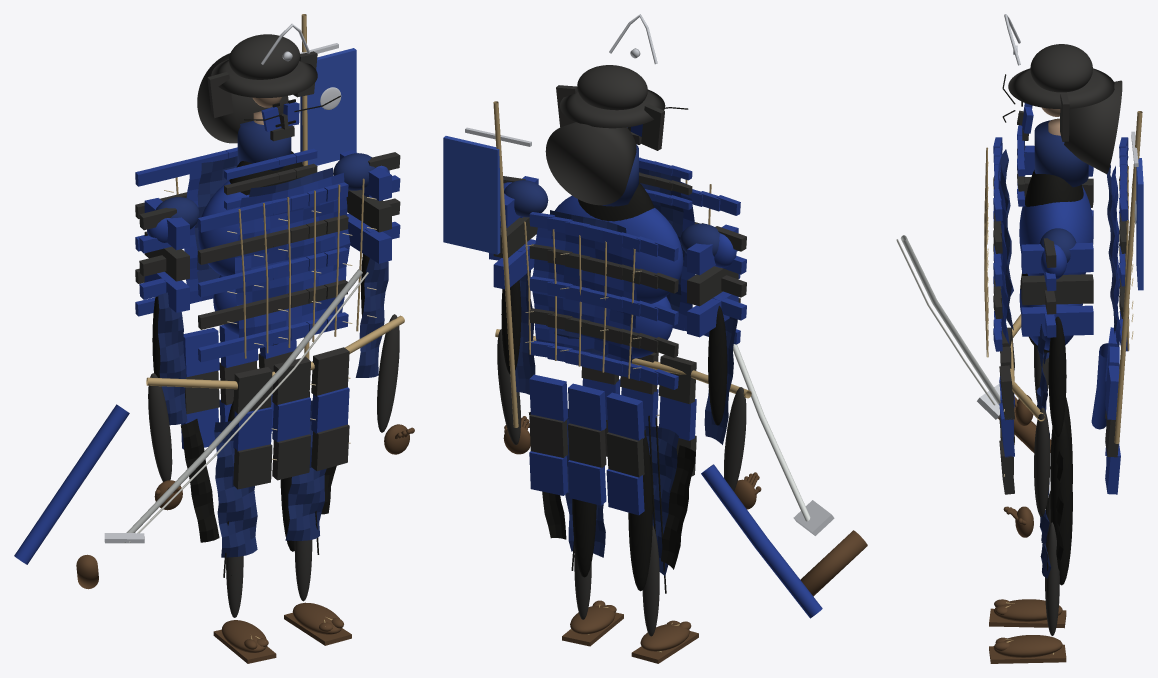
File: samurai_character.glb
3 views of the same model, side by side, from view 1: azimuth 30°, elevation 25°; view 2: azimuth 150°, elevation 25°; view 3: azimuth 270°, elevation 25° (orthographic).
Parts seen in each view (by area): view 1: curved front lacquer torso overlay, cloth sashimono banner panel, left broad creased hakama outer cloth, lacquered saya scabbard at left hip, left creased hanging sleeve cloth, right broad creased hakama outer cloth, compact segmented kabuto helmet bowl, right creased hanging sleeve cloth, drawn katana blade spine, layered rear shikoro neck guard, left deep sculpted side hakama fold, thin kabuto brim (+40 smaller); view 2: curved rear lacquer torso overlay, cloth sashimono banner panel, layered rear shikoro neck guard, subdued upper do cuirass fitted shell, lacquered saya scabbard at left hip, compact segmented kabuto helmet bowl, left broad creased hakama outer cloth, left hidden hakama trouser leg volume, left deep sculpted side hakama fold, thin kabuto brim, left hidden upper arm volume, bamboo sashimono back pole (+42 smaller); view 3: layered rear shikoro neck guard, subdued upper do cuirass fitted shell, compact segmented kabuto helmet bowl, thin kabuto brim, right hidden hakama trouser leg volume, neck guard collar, right side cuirass plate 2, bamboo sashimono back pole, right side cuirass plate 3, right hidden upper arm volume, right kote forearm guard, ribcage under-kimono volume (+34 smaller).
Boxes of the visible parts, x1,y1,x2,y2 form: curved front lacquer torso overlay: [235, 173, 350, 337]; cloth sashimono banner panel: [300, 48, 356, 165]; left broad creased hakama outer cloth: [214, 421, 257, 557]; lacquered saya scabbard at left hip: [14, 404, 129, 564]; left creased hanging sleeve cloth: [158, 292, 187, 425]; right broad creased hakama outer cloth: [285, 400, 326, 540]; compact segmented kabuto helmet bowl: [229, 34, 300, 79]; right creased hanging sleeve cloth: [355, 258, 388, 377]; drawn katana blade spine: [124, 269, 362, 542]; layered rear shikoro neck guard: [197, 53, 288, 143]; left deep sculpted side hakama fold: [180, 419, 219, 542]; thin kabuto brim: [211, 59, 317, 97]; curved rear lacquer torso overlay: [532, 225, 636, 363]; cloth sashimono banner panel: [443, 136, 500, 254]; layered rear shikoro neck guard: [545, 122, 636, 205]; subdued upper do cuirass fitted shell: [555, 195, 683, 303]; lacquered saya scabbard at left hip: [701, 464, 822, 618]; compact segmented kabuto helmet bowl: [577, 65, 647, 110]; left broad creased hakama outer cloth: [645, 426, 678, 575]; left hidden hakama trouser leg volume: [628, 431, 652, 591]; left deep sculpted side hakama fold: [661, 445, 695, 569]; thin kabuto brim: [560, 89, 665, 128]; left hidden upper arm volume: [708, 305, 727, 425]; bamboo sashimono back pole: [493, 101, 518, 427]; layered rear shikoro neck guard: [1064, 80, 1122, 174]; subdued upper do cuirass fitted shell: [1019, 186, 1093, 275]; compact segmented kabuto helmet bowl: [1030, 44, 1092, 92]; thin kabuto brim: [1008, 68, 1114, 109]; right hidden hakama trouser leg volume: [1050, 420, 1072, 585]; neck guard collar: [1034, 120, 1088, 187]; right side cuirass plate 2: [1021, 274, 1093, 305]; bamboo sashimono back pole: [1114, 111, 1142, 443]; right side cuirass plate 3: [1021, 305, 1093, 336]; right hidden upper arm volume: [1048, 316, 1066, 437]; right kote forearm guard: [1034, 408, 1050, 516]; ribcage under-kimono volume: [1025, 170, 1083, 206].
Size of what is drawn, in the model's own units: 1.63 by 2.68 by 0.963.
